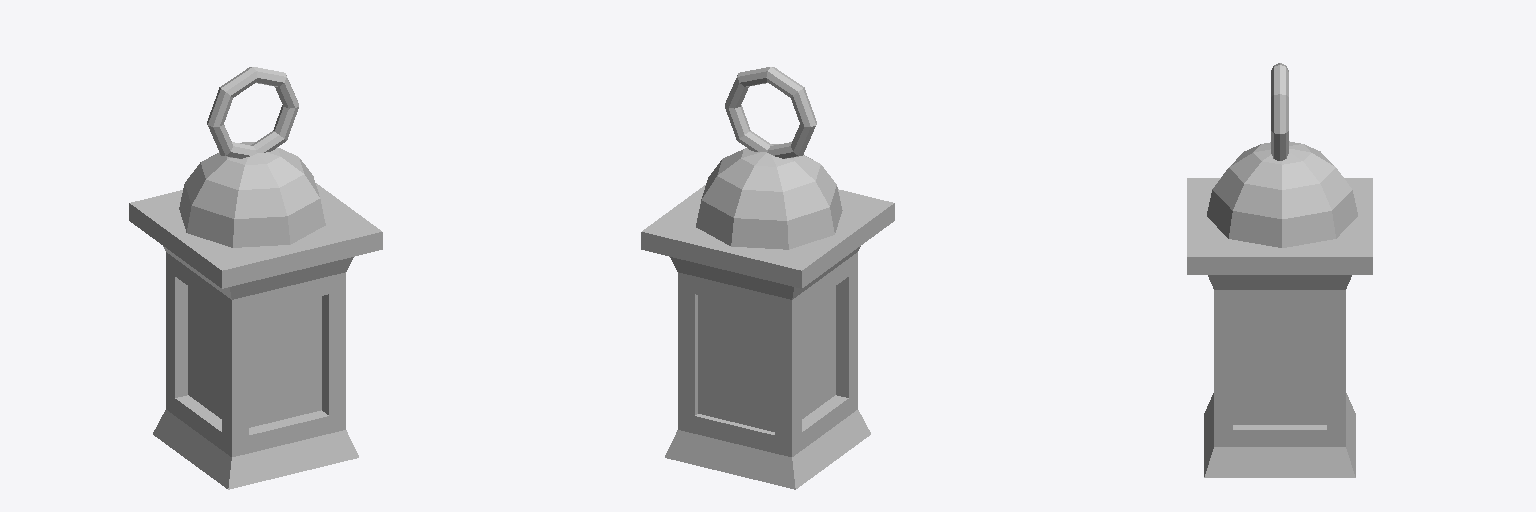
The model's file is BG_LAMPE.obj.
The picture shows the model from 3 angles: view 1: azimuth 30°, elevation 25°; view 2: azimuth 150°, elevation 25°; view 3: azimuth 270°, elevation 25°; orthographic projection.
Parts seen in each view (by area): view 1: pTorus2, pCube1; view 2: pTorus2, pCube1; view 3: pTorus2, pCube1.
Boxes of the visible parts, x1=… form: pTorus2: x1=129, y1=67, x2=382, y2=489; pCube1: x1=188, y1=286, x2=321, y2=427; pTorus2: x1=641, y1=67, x2=894, y2=489; pCube1: x1=698, y1=286, x2=835, y2=431; pTorus2: x1=1187, y1=63, x2=1372, y2=477; pCube1: x1=1233, y1=308, x2=1326, y2=424.
Bounding box in the file's own units: 36.25 × 82 × 36.25.